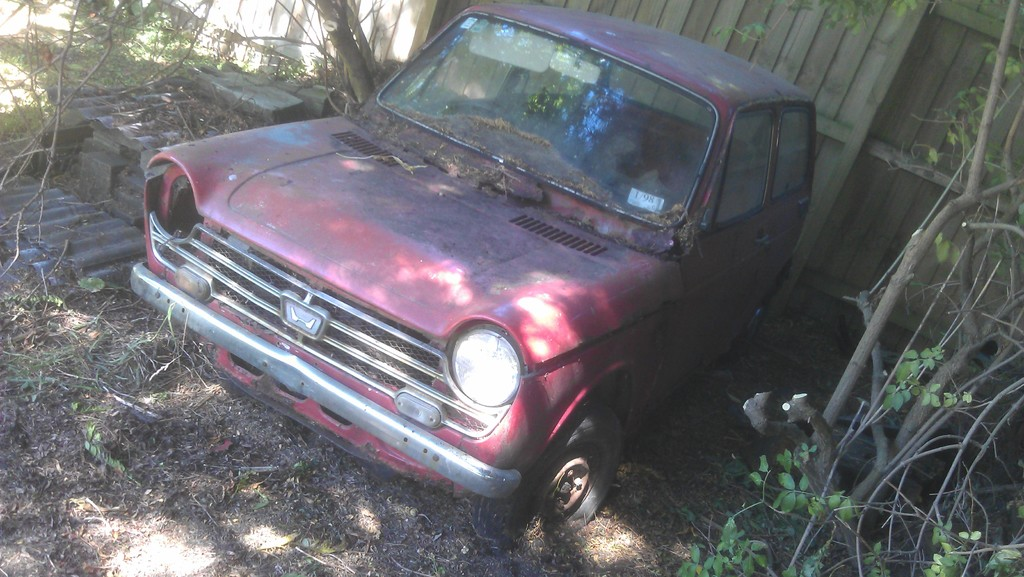Car: (136, 15, 806, 532)
